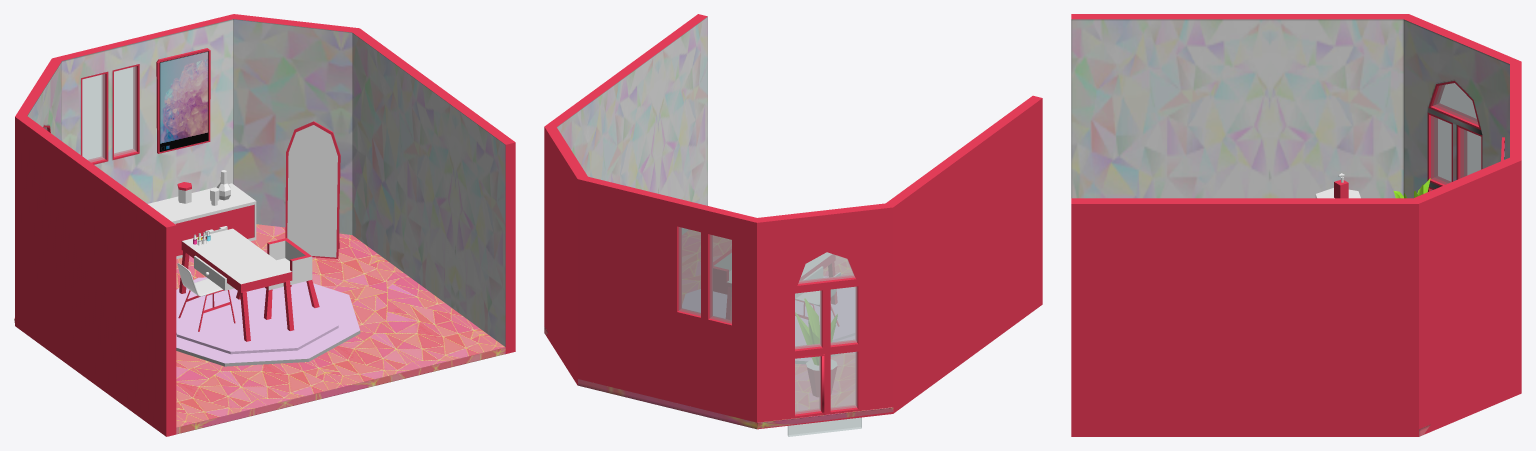
File: PEMBE-ODA.obj
3 renders of one model, left to right at view 1: azimuth 30°, elevation 25°; view 2: azimuth 150°, elevation 25°; view 3: azimuth 270°, elevation 25°, orthographic. The views are drawn at different scales.
Parts seen in each view (by area): view 1: Cube.121_wall_pembe, Cube.121_m_koyupembe, Cube.129_zemin_pembe, Circle.019_m_pembe, Circle.021_m_beyaz, Plane.014_tablo_pembe, Cube.118_m_cam, Circle.018_m_pembe, Cube.125_m_white, cabinet.013_m_white, cabinet.013_m_koyupembe, Cube.126_m_white (+8 smaller); view 2: Cube.121_m_koyupembe, Cube.121_wall_pembe, Cube.128_m_cam, Cube.129_zemin_pembe, Cube.118_m_cam, Circle.019_m_pembe, Plane.019_Plane.007_m_açıkgreen, Circle.018_m_pembe; view 3: Cube.121_m_koyupembe, Cube.121_wall_pembe, Cube.128_m_cam.
Part boxes in pixels (x1,y1,x2,y2): Cube.121_wall_pembe: (27,19,505,346); Cube.121_m_koyupembe: (15,14,515,436); Cube.129_zemin_pembe: (14,224,505,434); Circle.019_m_pembe: (176,285,338,354); Circle.021_m_beyaz: (287,125,337,257); Plane.014_tablo_pembe: (159,51,208,151); Cube.118_m_cam: (82,66,136,162); Circle.018_m_pembe: (176,277,359,363); Cube.125_m_white: (182,228,291,284); cabinet.013_m_white: (148,183,256,259); cabinet.013_m_koyupembe: (175,204,254,256); Cube.126_m_white: (268,240,312,290); Cube.121_m_koyupembe: (544,14,1042,429); Cube.121_wall_pembe: (557,16,707,234); Cube.128_m_cam: (787,252,861,436); Cube.129_zemin_pembe: (544,230,893,429); Cube.118_m_cam: (678,227,731,323); Circle.019_m_pembe: (700,290,854,345); Plane.019_Plane.007_m_açıkgreen: (795,299,837,365); Circle.018_m_pembe: (682,276,854,360); Cube.121_m_koyupembe: (1071,14,1521,436); Cube.121_wall_pembe: (1071,19,1509,198); Cube.128_m_cam: (1431,83,1481,190).
Size of the model in its own units: 68.08 by 41.45 by 68.21.
